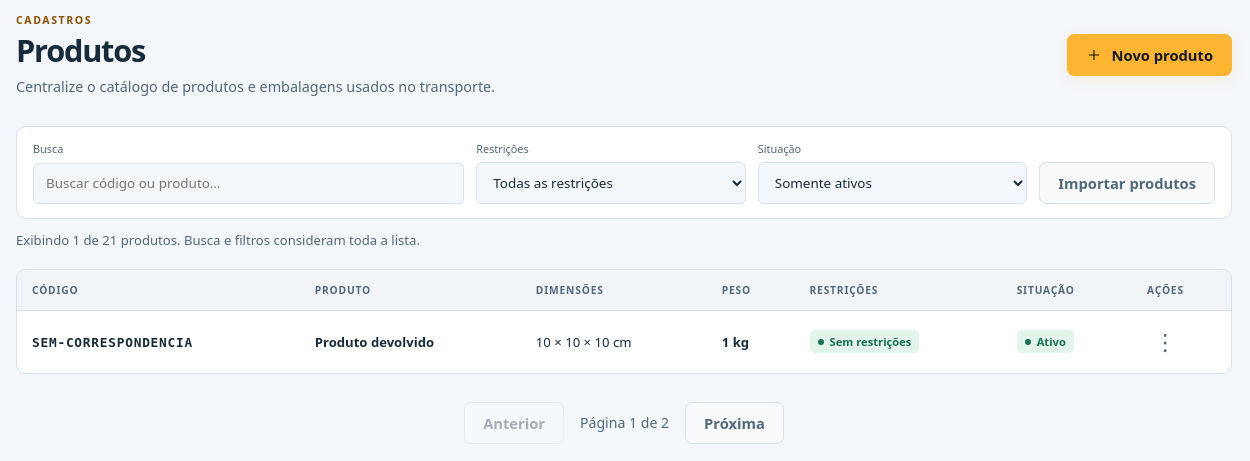
Test: OC95 products › preserva o tratamento de erro após mudar a busca
The image size is (1250, 461).
expect the text "SEM-CORRESPONDENCIA" is shown: met, box [32,335,193,350]
In the search field named "Buscar por código ou nome": (249, 183) [33,163,464,204], type "falha"
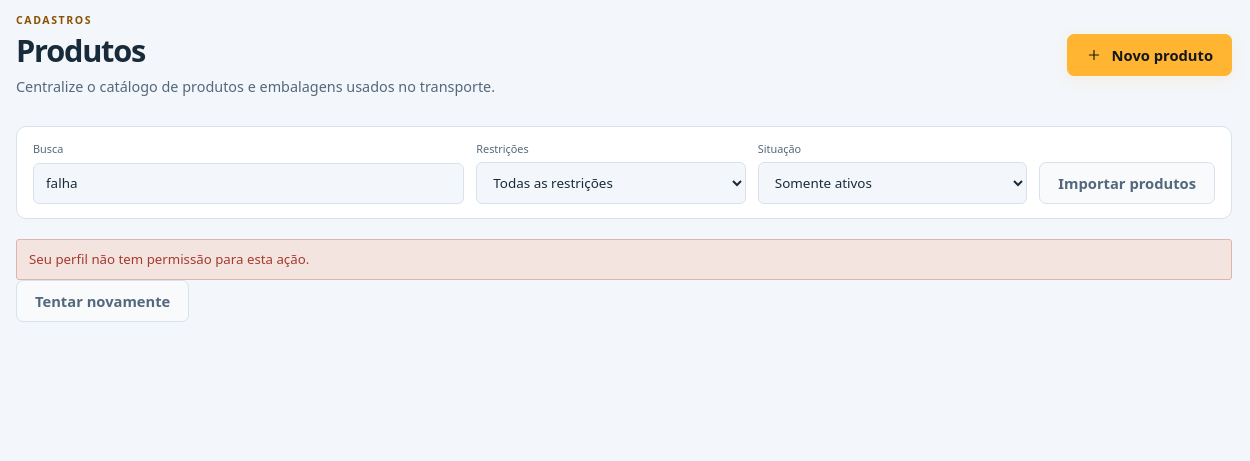
expect the message shows "Seu perfil não tem permissão": met, box [29,250,309,268]
